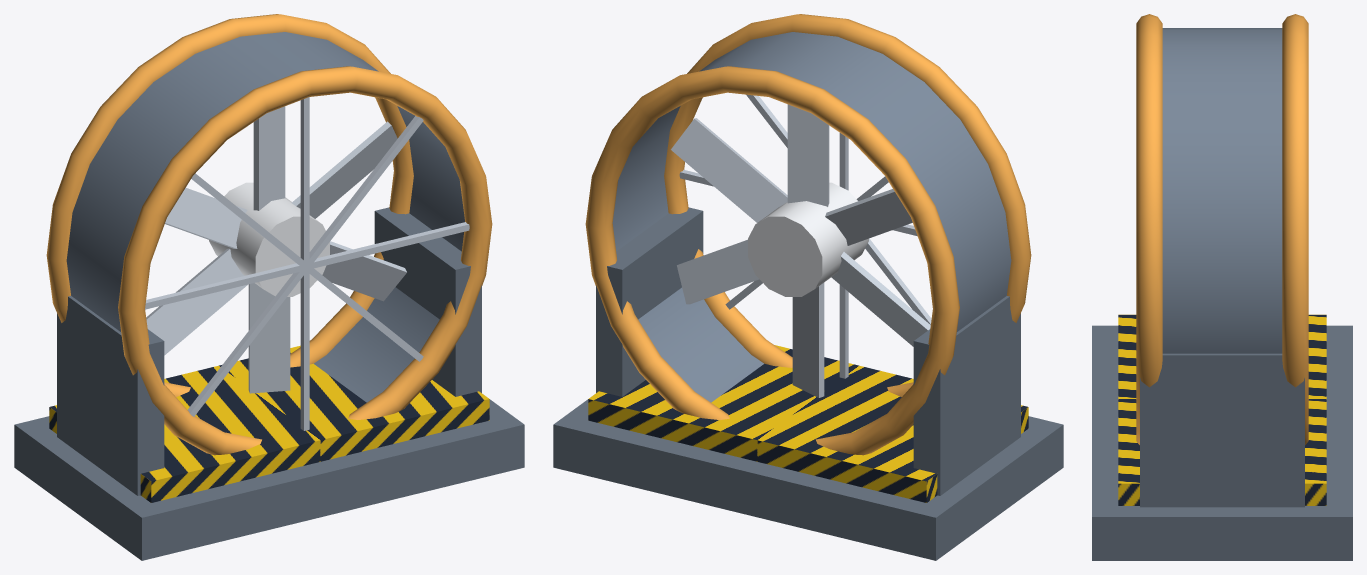
File: wind_fan_giant.glb
The picture shows the model from 3 angles, left to right: view 1: azimuth 30°, elevation 25°; view 2: azimuth 150°, elevation 25°; view 3: azimuth 270°, elevation 25°; orthographic projection. The views are drawn at different scales.
Parts seen in each view (by area): view 1: wind_fan_giant, fan_blades_pivot; view 2: wind_fan_giant, fan_blades_pivot; view 3: wind_fan_giant.
Part boxes in pixels (left/top/right/bottom): wind_fan_giant: left=14, top=14, right=524, bottom=560; fan_blades_pivot: left=146, top=106, right=406, bottom=393; wind_fan_giant: left=553, top=14, right=1063, bottom=560; fan_blades_pivot: left=671, top=104, right=930, bottom=397; wind_fan_giant: left=1092, top=14, right=1352, bottom=560.
Bounding box in the file's own units: 2.6 × 2.74 × 1.5.
6 materials, 1 textured.
